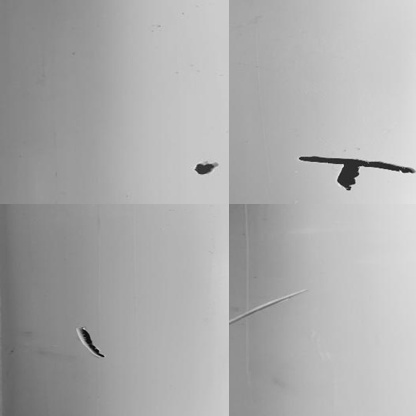fengxi: (296, 155, 413, 173)
kongdong: (73, 322, 107, 359), (337, 161, 361, 192), (193, 155, 217, 177)
sunshang: (231, 286, 309, 327)
